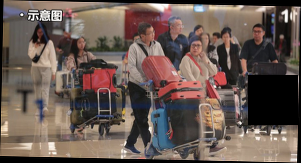without_mask: (189, 42, 203, 56), (173, 21, 184, 35), (146, 28, 155, 42), (253, 28, 263, 40), (200, 35, 210, 46), (77, 38, 86, 49), (36, 29, 45, 38), (221, 34, 230, 43), (195, 28, 203, 36), (212, 35, 219, 44)
